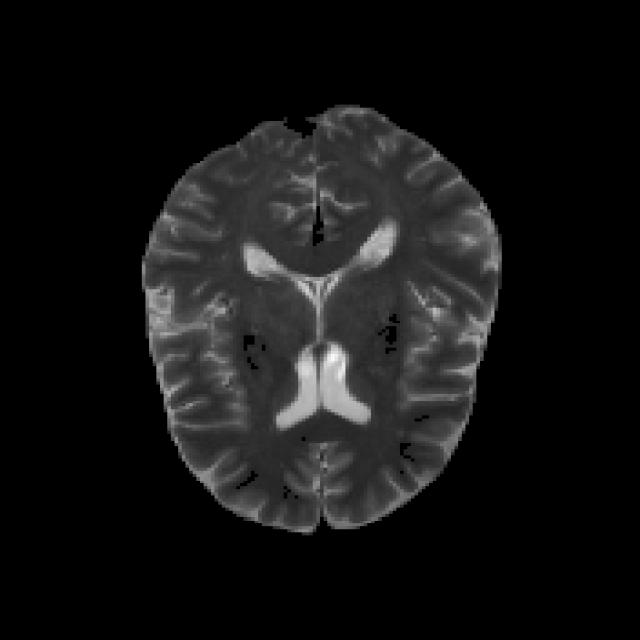CONTROL: (138, 101, 502, 532)
